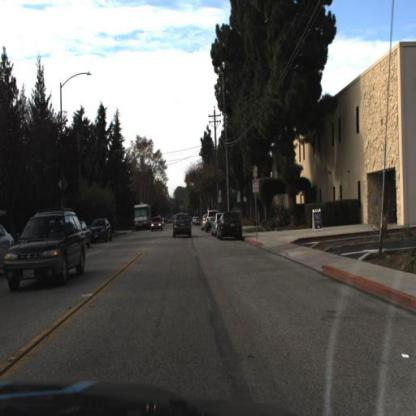car: (3, 209, 87, 290), (214, 212, 243, 240), (88, 215, 113, 246), (172, 212, 194, 239)
truck: (130, 202, 152, 234)
